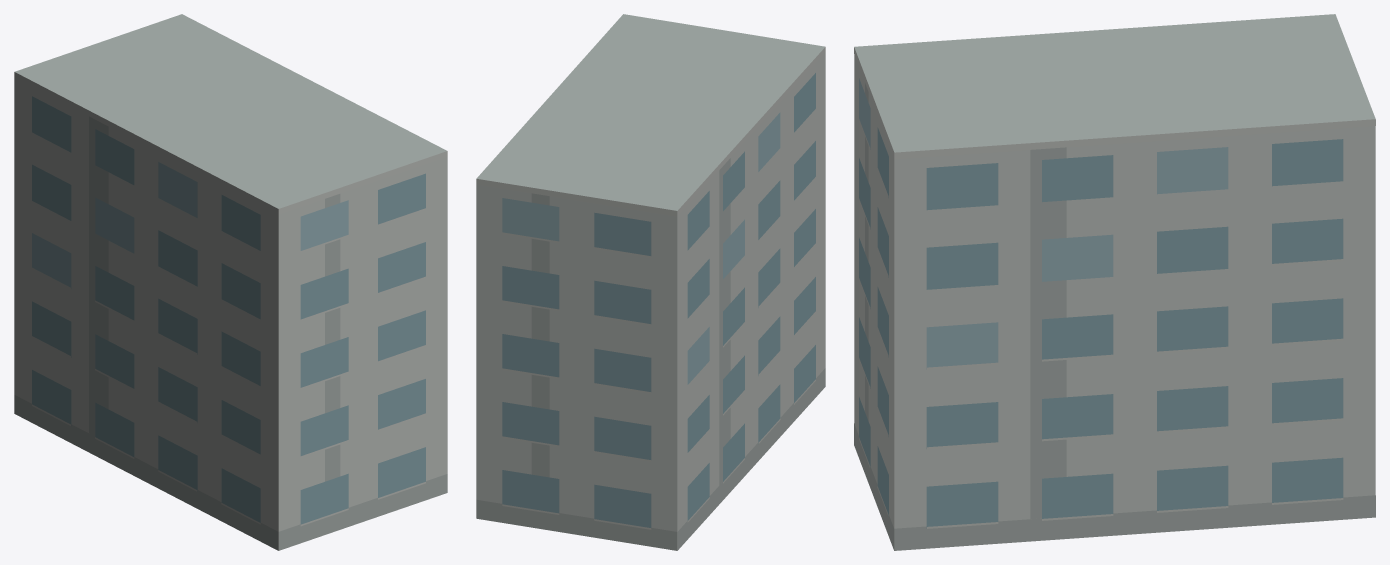
File: survey-upis-32849492.glb
3 renders of one model, left to right at view 1: azimuth 30°, elevation 25°; view 2: azimuth 150°, elevation 25°; view 3: azimuth 270°, elevation 25°, orthographic. The views are drawn at different scales.
Parts seen in each view (by area): view 1: survey-upis-32849492.tmp; view 2: survey-upis-32849492.tmp; view 3: survey-upis-32849492.tmp.
Part boxes in pixels (left/top/right/bottom): survey-upis-32849492.tmp: left=14, top=14, right=447, bottom=550; survey-upis-32849492.tmp: left=476, top=14, right=825, bottom=550; survey-upis-32849492.tmp: left=854, top=14, right=1375, bottom=550.
Size of the model in its own units: 10.75 by 14.4 by 17.1.
